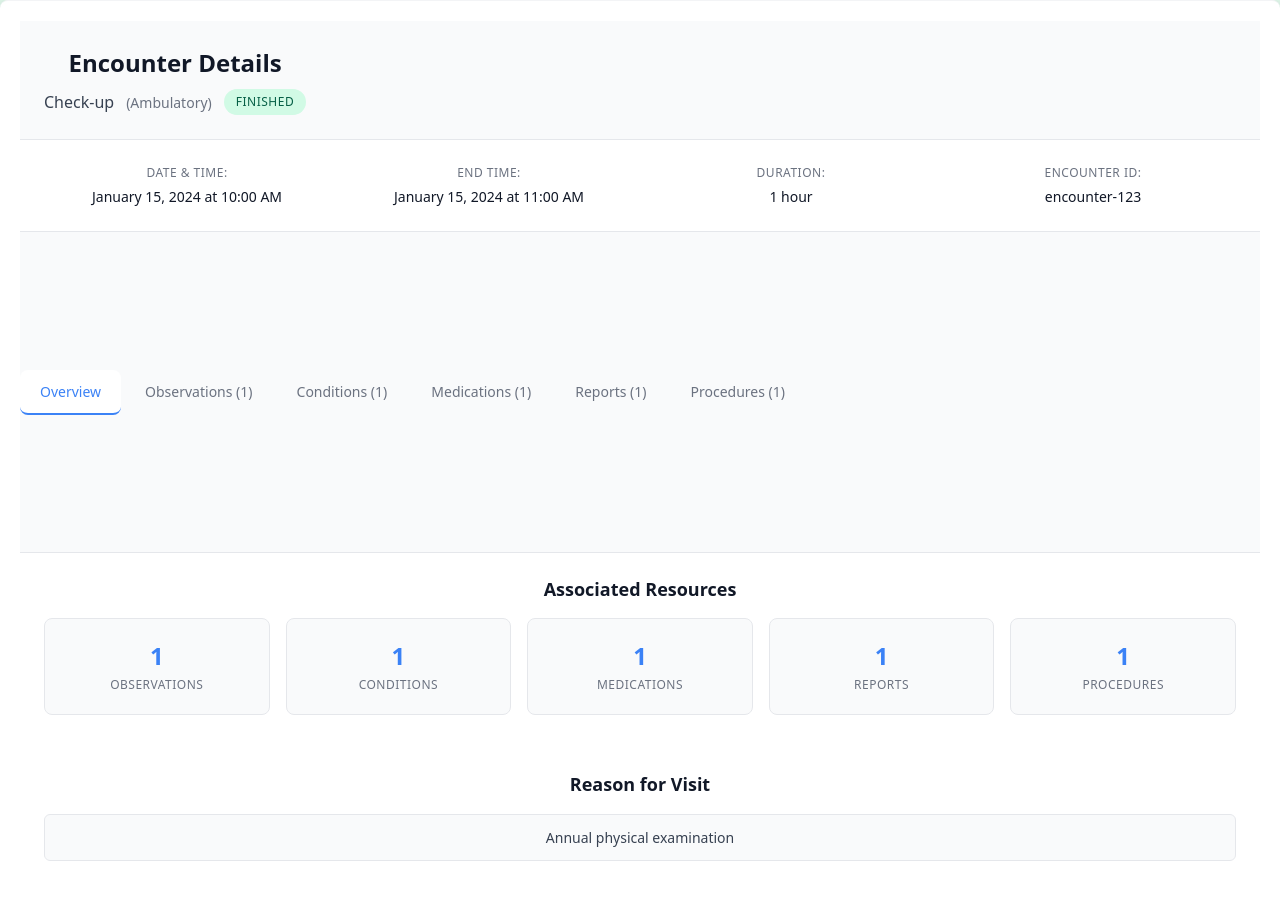
EncounterDetails › switches between tabs correctly
Click on observations tab
Step 1. Click the button "Observations (1)" → click(199, 392), box [125,370,273,414]
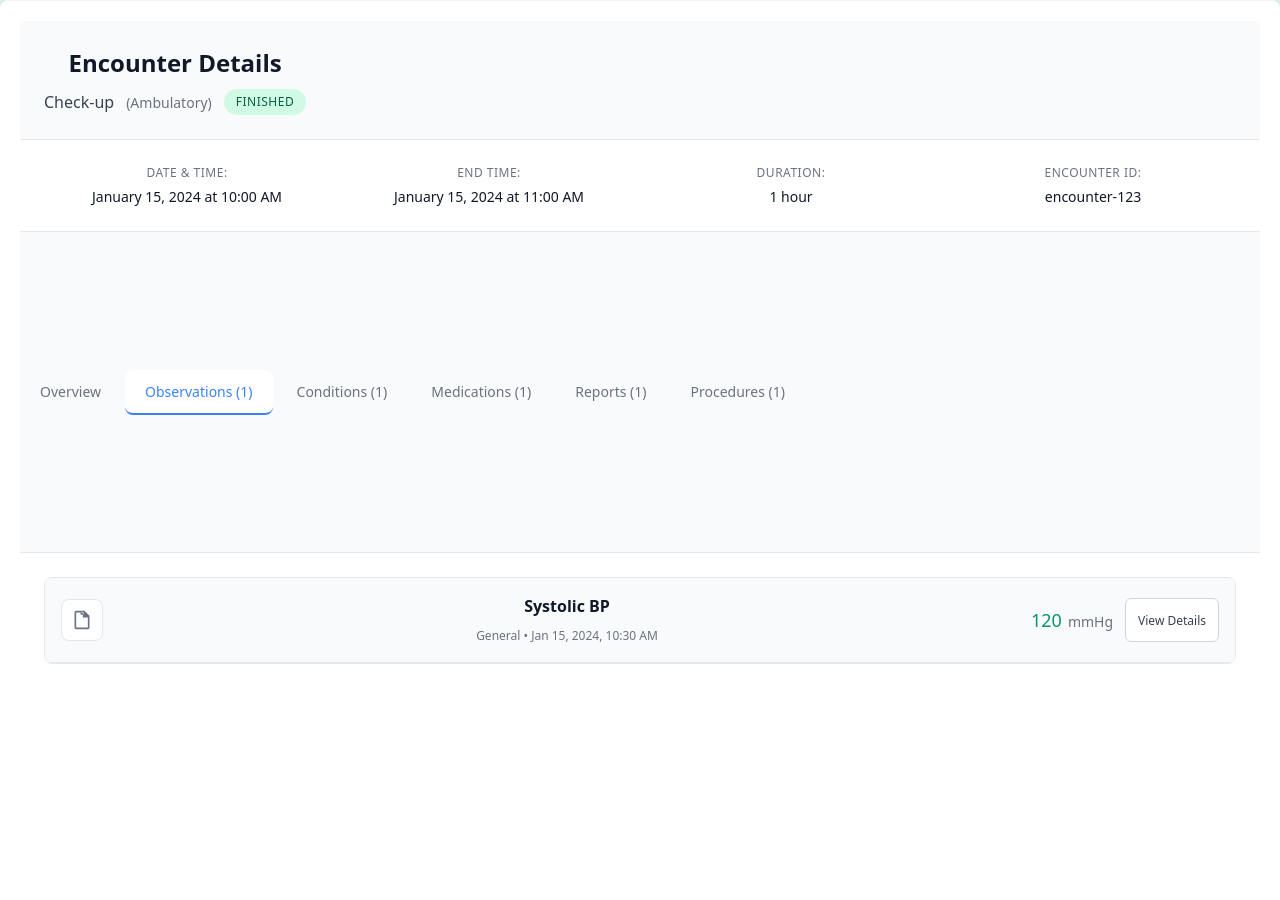
Expected: the heading "Systolic BP" is shown, [524,595,610,617]
Click on conditions tab
Step 2. Click the button "Conditions (1)" → click(342, 392), box [276,370,407,414]
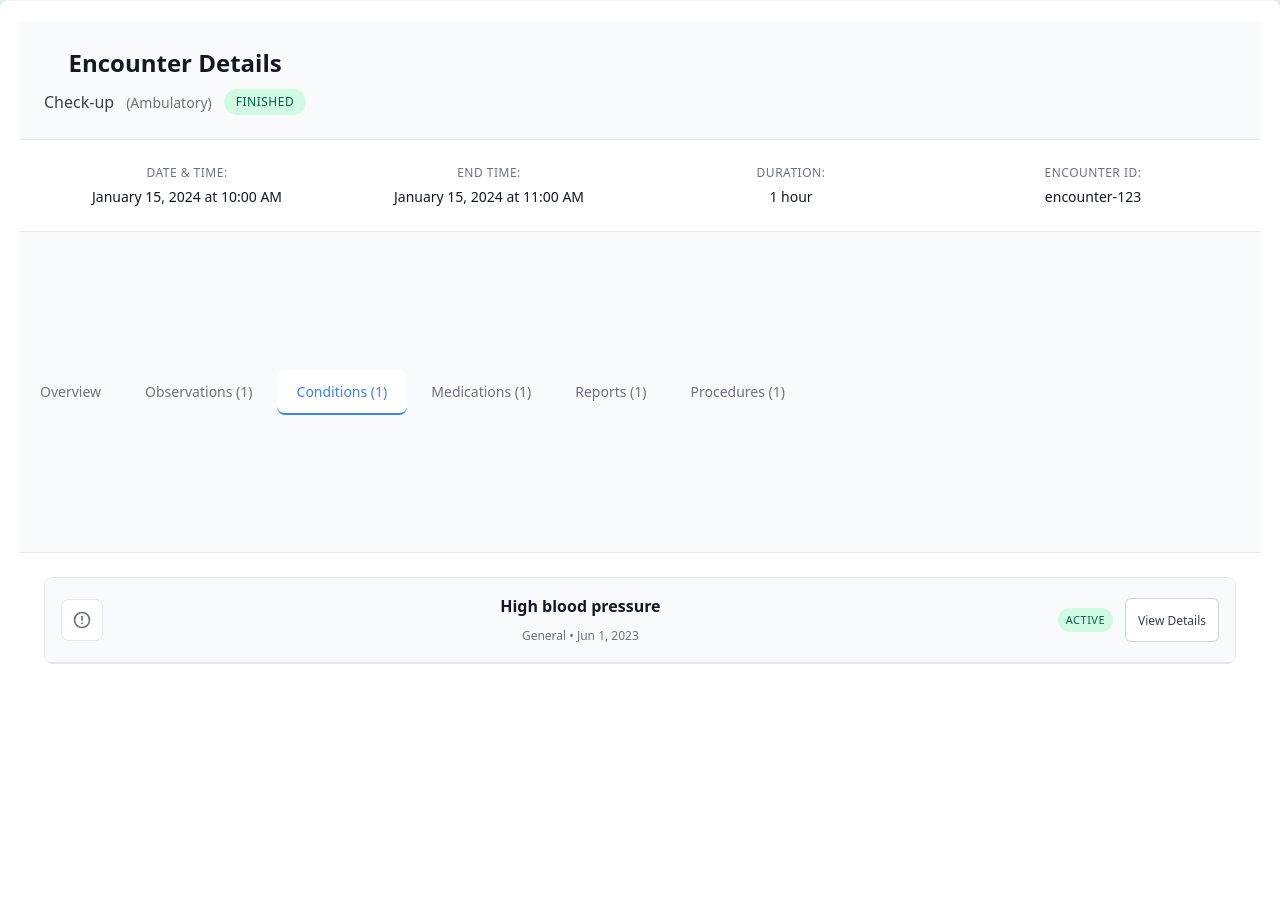
Expected: the heading "High blood pressure" is shown, [500,595,661,617]
